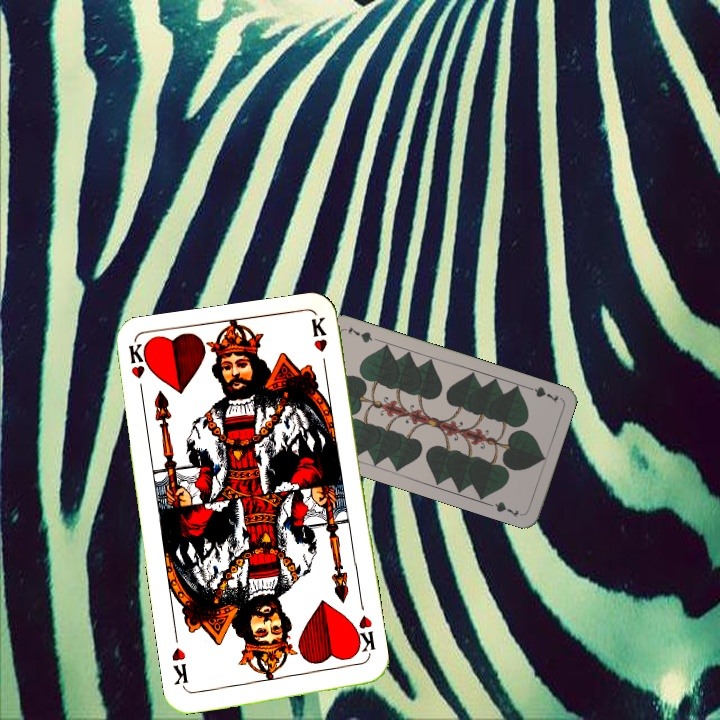G7: (522, 382, 561, 405)
HK: (125, 341, 152, 401), (348, 611, 378, 662)
